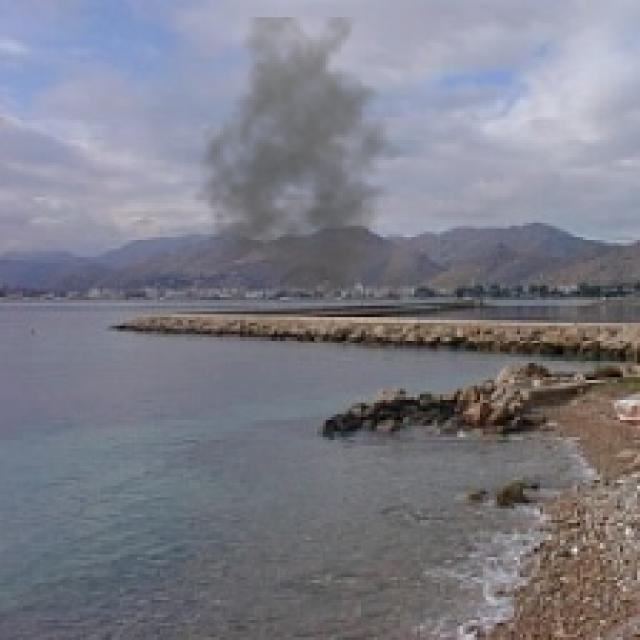smoke: (192, 17, 414, 300)
